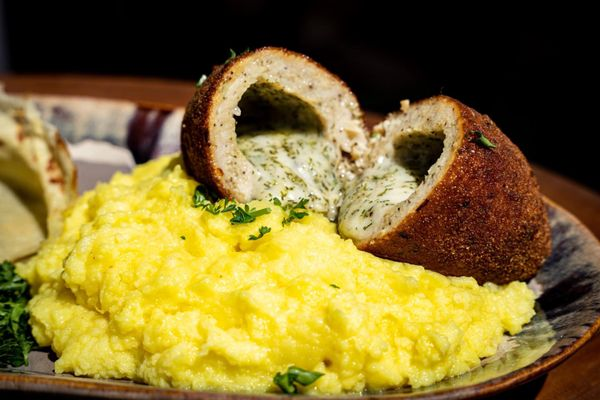curry: (0, 256, 34, 369)
